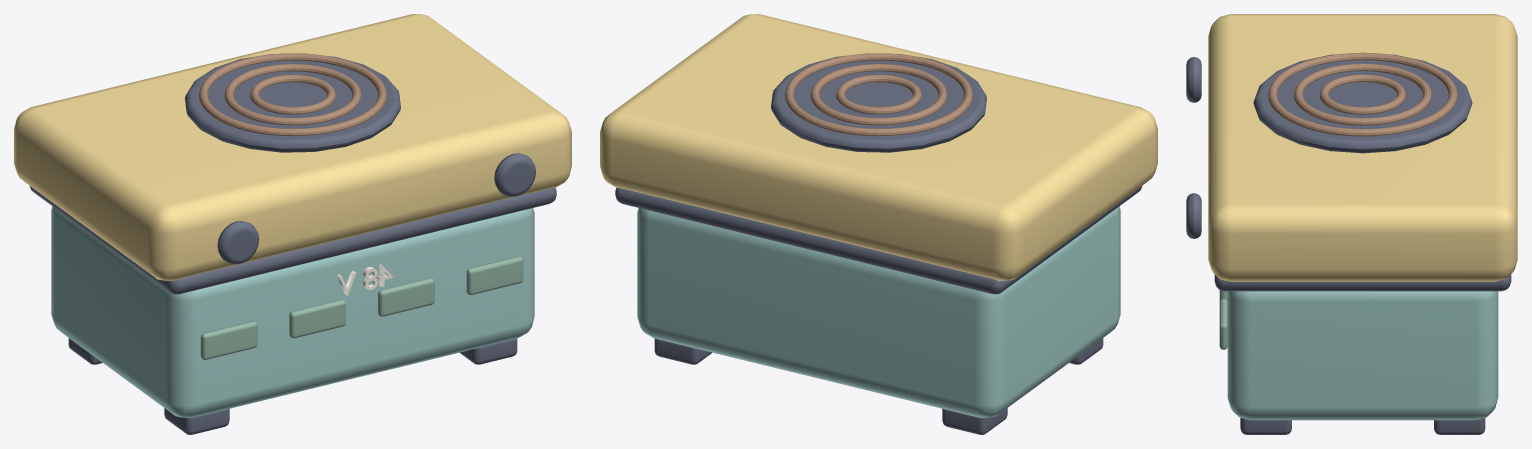
The model's file is BatteryHotplate.fbx.
3 views of the same model, side by side, from view 1: azimuth 30°, elevation 25°; view 2: azimuth 150°, elevation 25°; view 3: azimuth 270°, elevation 25° (orthographic).
Visible parts, largest first — view 1: Hot plate housing, Sealed battery cassette, Heating surface, Battery top flange, Torus.002, Torus.001, Charge segment, Charge segment.003, Charge segment.001, Charge segment.002, Torus, Control knob (+4 smaller); view 2: Hot plate housing, Sealed battery cassette, Heating surface, Battery top flange, Torus.002, Torus.001, Torus, Rubber foot.001, Rubber foot.003; view 3: Hot plate housing, Sealed battery cassette, Heating surface, Torus.002, Battery top flange, Torus.001, Torus, Rubber foot.002, Rubber foot.003, Control knob, Control knob.001, Charge segment.003.
Boxes of the visible parts, x1,y1,x2,y2 form: Hot plate housing: (14,14,571,281); Sealed battery cassette: (51,206,534,417); Heating surface: (185,53,400,152); Battery top flange: (29,186,556,294); Torus.002: (199,53,386,136); Torus.001: (224,64,361,125); Charge segment: (200,321,257,359); Charge segment.003: (466,256,523,294); Charge segment.001: (289,299,345,338); Charge segment.002: (378,278,434,316); Torus: (250,74,335,114); Control knob: (217,221,259,264); Hot plate housing: (600,14,1157,281); Sealed battery cassette: (637,206,1120,417); Heating surface: (771,53,986,152); Battery top flange: (615,186,1142,294); Torus.002: (785,53,972,136); Torus.001: (810,64,947,125); Torus: (836,74,921,114); Rubber foot.001: (942,408,1007,434); Rubber foot.003: (654,338,711,364); Hot plate housing: (1208,14,1517,281); Sealed battery cassette: (1227,291,1498,420); Heating surface: (1253,52,1472,153); Torus.002: (1268,52,1457,136); Battery top flange: (1214,274,1511,291); Torus.001: (1294,63,1431,125); Torus: (1319,74,1405,114); Rubber foot.002: (1240,417,1291,434); Rubber foot.003: (1434,418,1485,434); Control knob: (1186,57,1201,102); Control knob.001: (1186,193,1201,238); Charge segment.003: (1219,299,1227,349).
Bounding box in the file's own units: 76 × 51.4 × 45.2.
